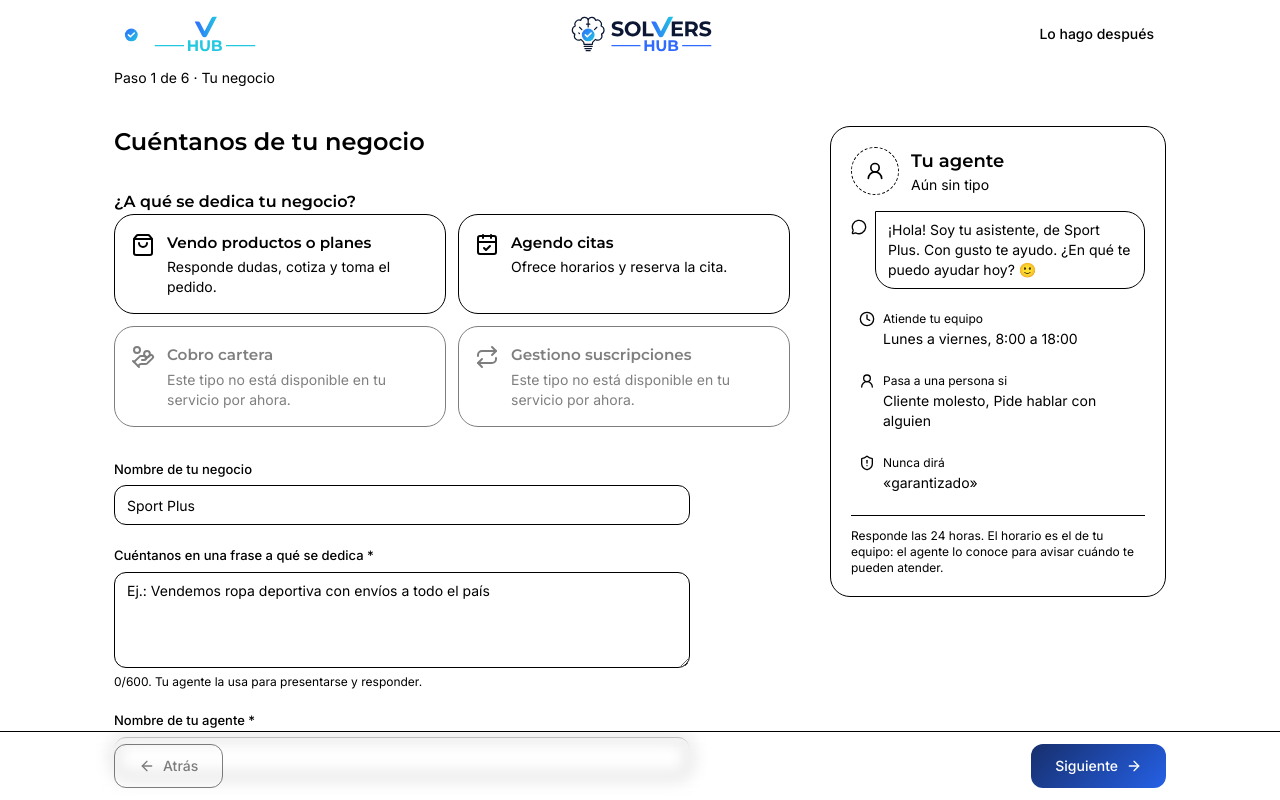
Test: asistente de primer uso › elegir un tipo no pide activar nada antes: avisa qué habilidad se activará al terminar
expect the text "Al terminar activaremos" is not shown: met
Click the radio button labelled "Vendo productos o planes" at (280, 264), box [114, 214, 446, 314]
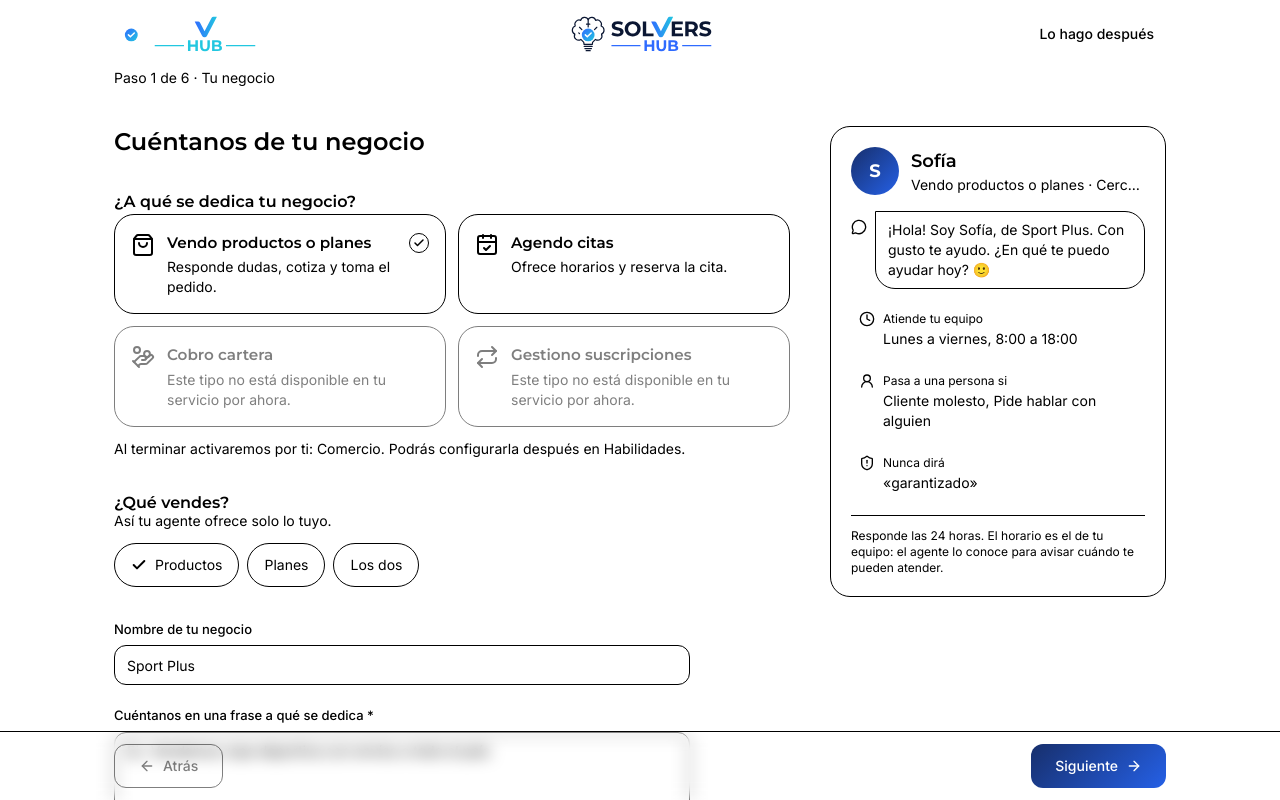
expect the text "Al terminar activaremos" shows "Comercio": met, box [317, 440, 381, 457]
Note: Un tipo cuya habilidad ya está activa no dice nada.
Click the radio button labelled "Agendo citas Ofrece horarios y reserva la cita." at (624, 264), box [458, 214, 790, 314]
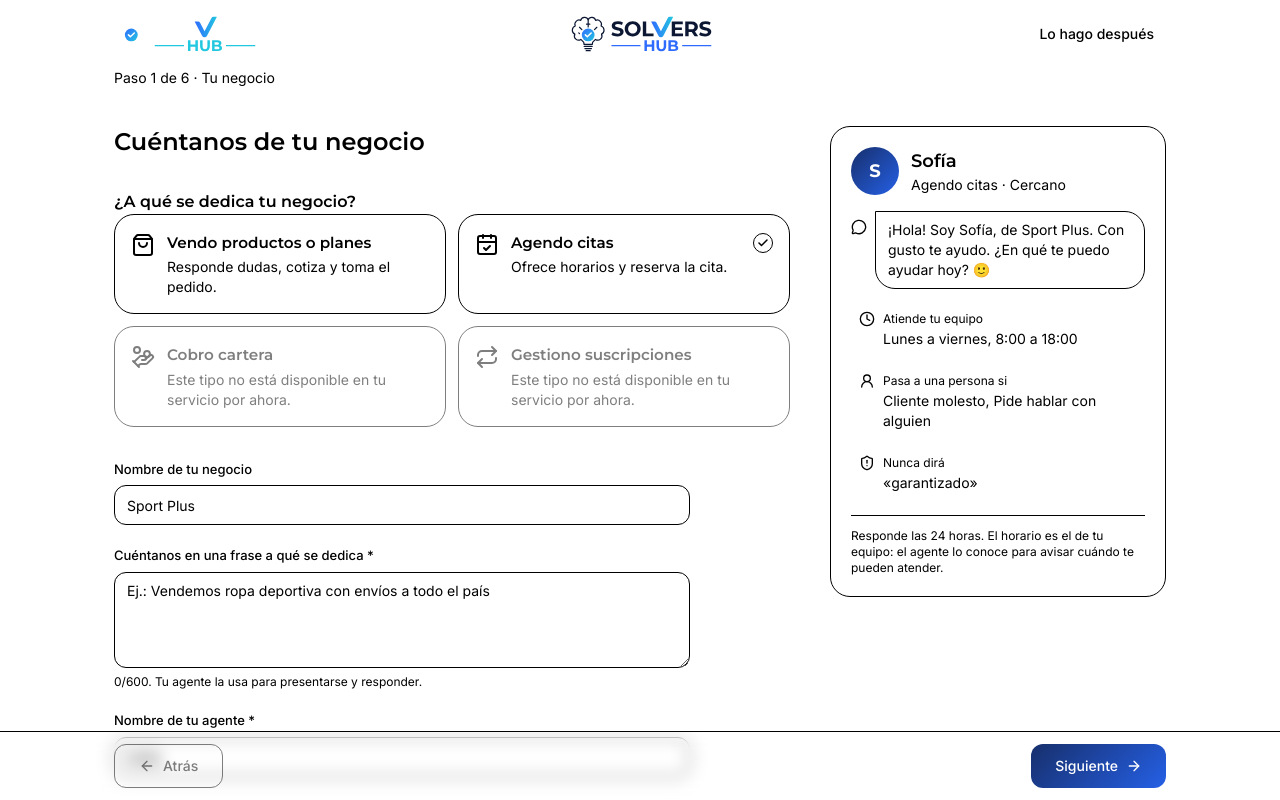
expect the text "Al terminar activaremos" is gone: met
